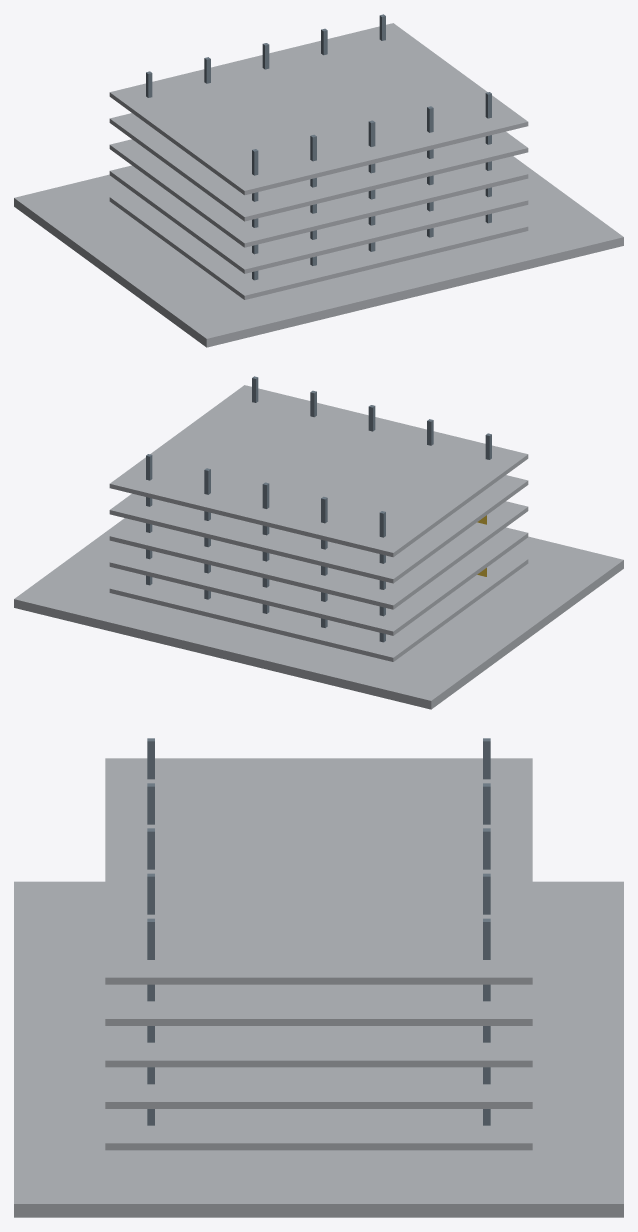
Rendered from gpt-estacionamento-vertical.glb.
3 views of the same model, one above another, from view 1: azimuth 30°, elevation 25°; view 2: azimuth 150°, elevation 25°; view 3: azimuth 270°, elevation 25° (orthographic). The views are drawn at different scales.
Visible parts, largest first — view 1: Estacionamento Vertical-045, Estacionamento Vertical-000, Estacionamento Vertical-034, Estacionamento Vertical-001, Estacionamento Vertical-023, Estacionamento Vertical-012; view 2: Estacionamento Vertical-045, Estacionamento Vertical-000, Estacionamento Vertical-034, Estacionamento Vertical-012, Estacionamento Vertical-023, Estacionamento Vertical-001; view 3: Estacionamento Vertical-045, Estacionamento Vertical-000, Estacionamento Vertical-001, Estacionamento Vertical-023, Estacionamento Vertical-012, Estacionamento Vertical-034.
Boxes of the visible parts, x1=… form: Estacionamento Vertical-045: x1=109, y1=23, x2=528, y2=195; Estacionamento Vertical-000: x1=14, y1=156, x2=623, y2=347; Estacionamento Vertical-034: x1=109, y1=113, x2=528, y2=221; Estacionamento Vertical-001: x1=109, y1=191, x2=528, y2=299; Estacionamento Vertical-023: x1=109, y1=139, x2=528, y2=247; Estacionamento Vertical-012: x1=109, y1=165, x2=528, y2=273; Estacionamento Vertical-045: x1=109, y1=385, x2=528, y2=557; Estacionamento Vertical-000: x1=14, y1=518, x2=623, y2=709; Estacionamento Vertical-034: x1=109, y1=475, x2=528, y2=583; Estacionamento Vertical-012: x1=109, y1=527, x2=528, y2=635; Estacionamento Vertical-023: x1=109, y1=501, x2=528, y2=609; Estacionamento Vertical-001: x1=109, y1=553, x2=528, y2=661; Estacionamento Vertical-045: x1=105, y1=758, x2=532, y2=984; Estacionamento Vertical-000: x1=14, y1=881, x2=623, y2=1217; Estacionamento Vertical-001: x1=105, y1=1109, x2=532, y2=1150; Estacionamento Vertical-023: x1=105, y1=1026, x2=532, y2=1067; Estacionamento Vertical-012: x1=105, y1=1067, x2=532, y2=1108; Estacionamento Vertical-034: x1=105, y1=984, x2=532, y2=1025.
Size of the model in its own units: 50 by 16.4 by 40.
